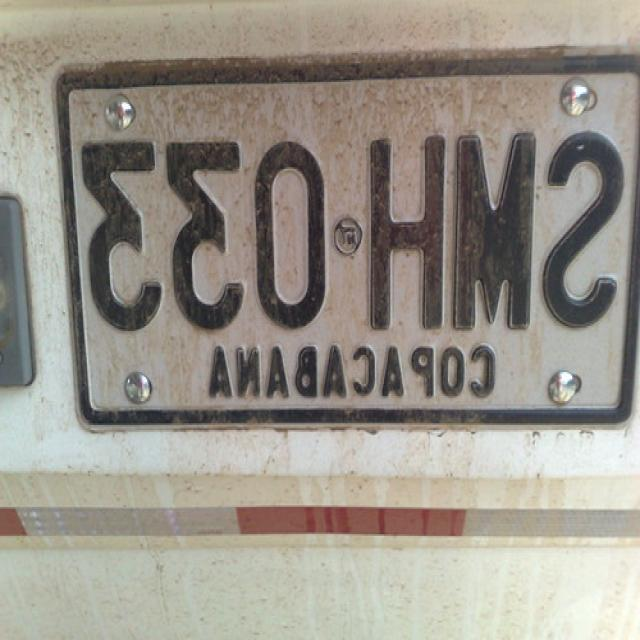placas: (71, 116, 630, 347)
